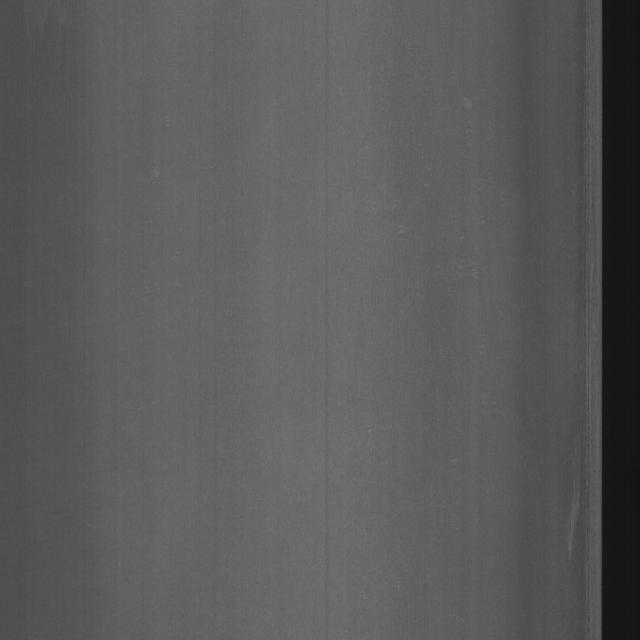inclusion: (568, 122, 599, 556)
